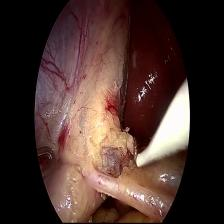Hook: (133, 77, 194, 181)
